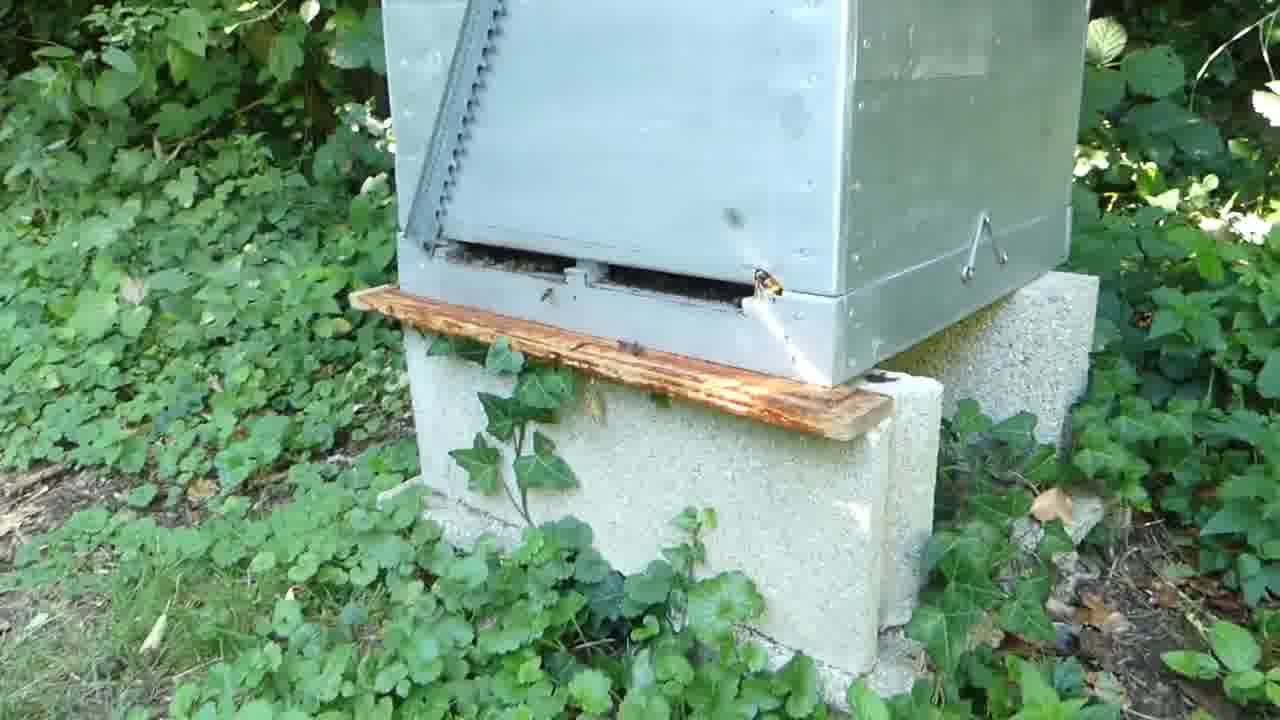hornet: (749, 267, 788, 297)
